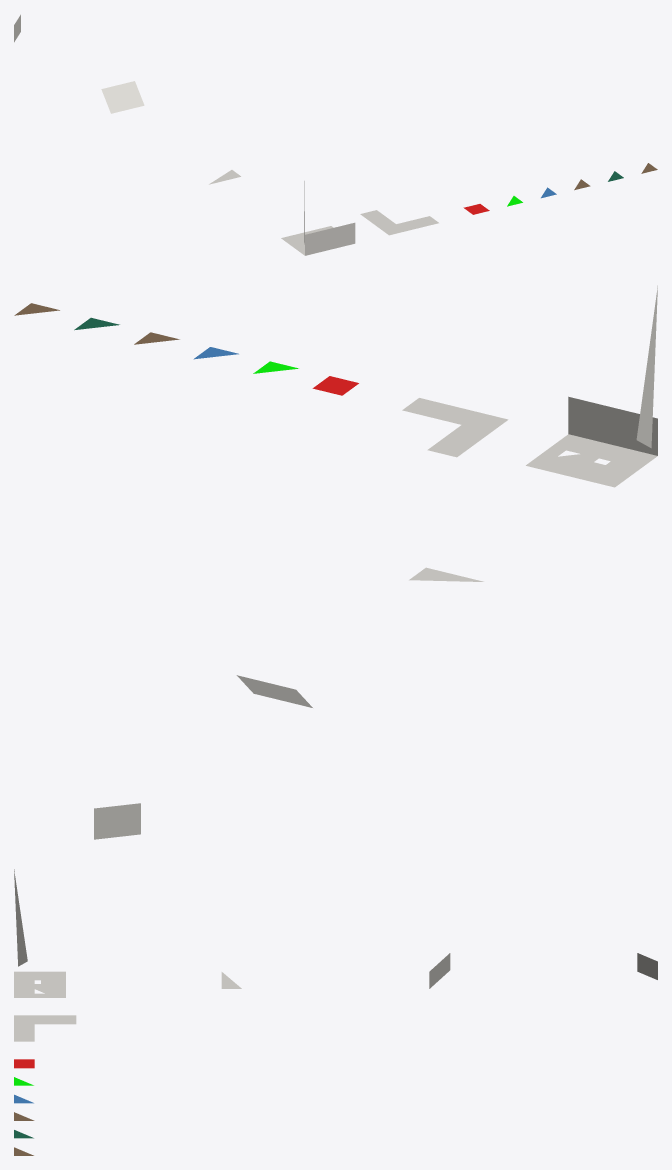
The model's file is faces.special.dae.
The picture shows the model from 3 angles, top to bottom: view 1: azimuth 30°, elevation 25°; view 2: azimuth 150°, elevation 25°; view 3: azimuth 270°, elevation 25°; orthographic projection. The views are drawn at different scales.
Visible parts, largest first — view 1: Casa & <Jardín> "x"; view 2: Casa & <Jardín> "x"; view 3: Casa & <Jardín> "x".
Part boxes in pixels (bbox=[...]): Casa & <Jardín> "x": bbox=[14, 14, 657, 255]; Casa & <Jardín> "x": bbox=[14, 285, 657, 839]; Casa & <Jardín> "x": bbox=[14, 869, 657, 1155].
Size of the model in its own units: 21 by 31 by 5.5.
